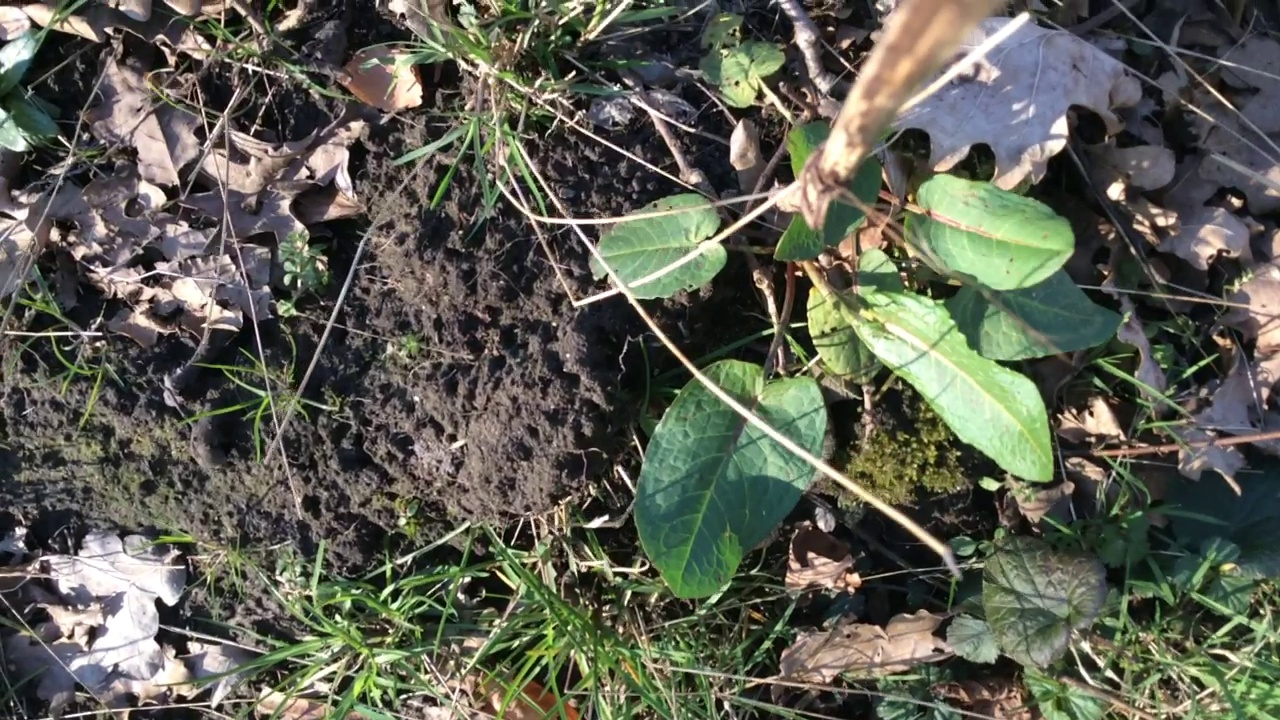rumex: (587, 9, 1130, 600)
